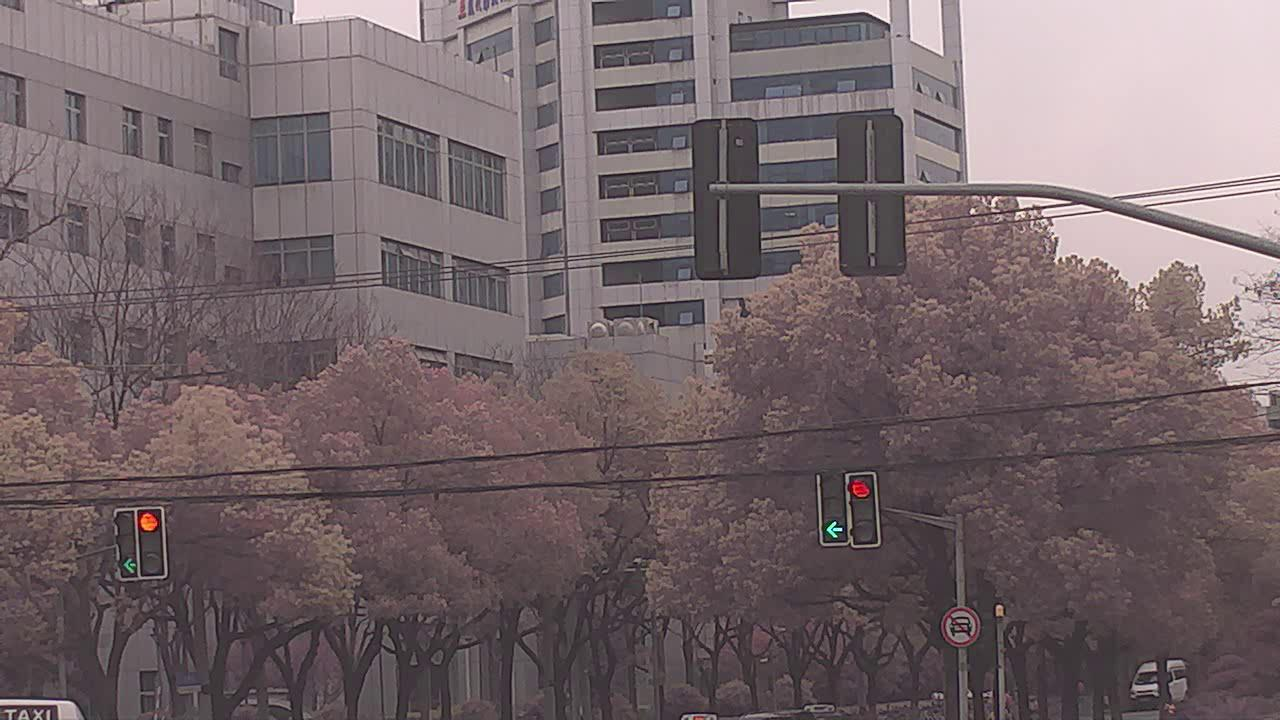traffic_light: (818, 470, 849, 551), (848, 472, 883, 543), (114, 509, 139, 580), (138, 511, 165, 575)
